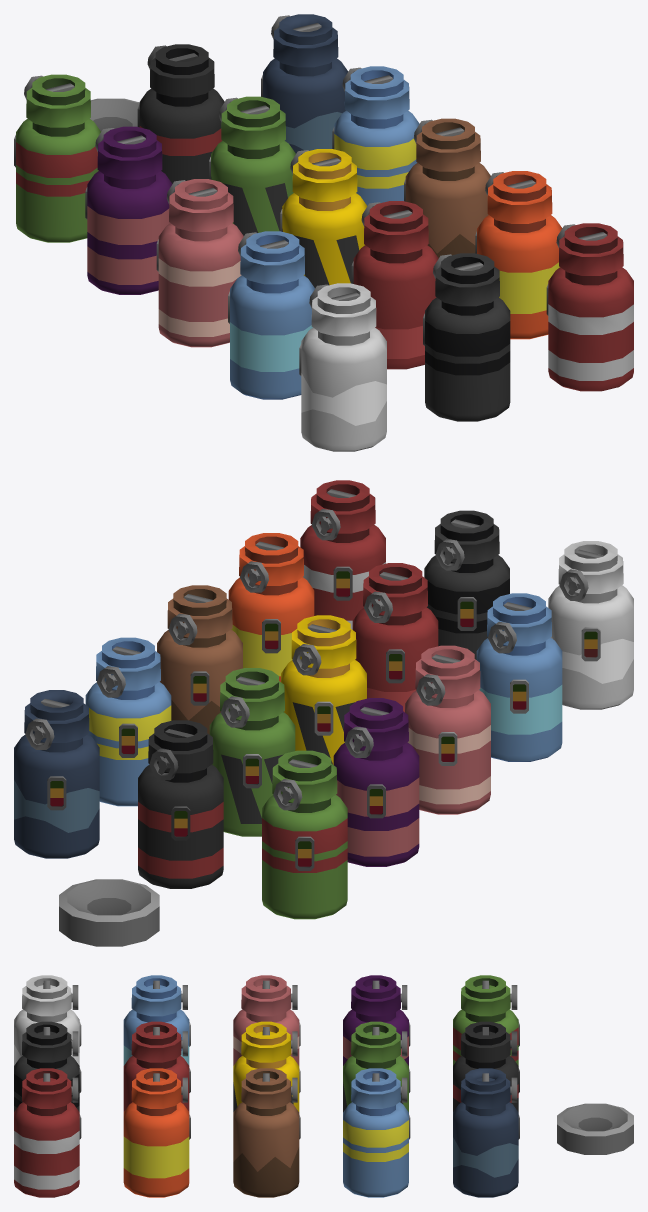
File: canisters.fbx
3 renders of one model, top to bottom at view 1: azimuth 30°, elevation 25°; view 2: azimuth 150°, elevation 25°; view 3: azimuth 270°, elevation 25°, orthographic. The views are drawn at different scales.
Parts seen in each view (by area): view 1: CanisterAir, CanisterCarbonDioxide, CanisterNitrousOxide, CanisterBZ, CanisterStimulum, CanisterOxygen, CanisterMiasma, CanisterPlasma, CanisterNitrogen, CanisterNitryl, CanisterTrituim, CanisterHyperNoblium (+4 smaller); view 2: CanisterMiasma, CanisterPluoxium, CanisterWaterVapor, CanisterStimulum, CanisterBZ, CanisterOxygen, CanisterAir, CanisterHyperNoblium, CanisterTrituim, CanisterCarbonDioxide, CanisterNitrousOxide, CanisterGeneric (+4 smaller); view 3: CanisterNitryl, CanisterPlasma, CanisterNitrousOxide, CanisterHyperNoblium, CanisterPluoxium, Port, CanisterGeneric, CanisterBZ, CanisterCarbonDioxide, CanisterNitrogen, CanisterTrituim, CanisterOxygen (+4 smaller).
Part boxes in pixels (left/top/right/bottom): CanisterAir: left=299, top=283, right=386, bottom=451; CanisterCarbonDioxide: left=423, top=253, right=510, bottom=421; CanisterNitrousOxide: left=546, top=223, right=633, bottom=391; CanisterBZ: left=156, top=179, right=243, bottom=347; CanisterStimulum: left=85, top=126, right=172, bottom=294; CanisterOxygen: left=228, top=231, right=314, bottom=399; CanisterMiasma: left=14, top=74, right=100, bottom=242; CanisterPlasma: left=475, top=171, right=562, bottom=339; CanisterNitrogen: left=351, top=201, right=438, bottom=369; CanisterNitryl: left=404, top=118, right=490, bottom=257; CanisterTrituim: left=209, top=96, right=295, bottom=235; CanisterHyperNoblium: left=332, top=66, right=419, bottom=205; CanisterMiasma: left=262, top=750, right=347, bottom=919; CanisterPluoxium: left=14, top=690, right=99, bottom=858; CanisterWaterVapor: left=138, top=720, right=223, bottom=888; CanisterStimulum: left=333, top=698, right=419, bottom=866; CanisterBZ: left=405, top=645, right=490, bottom=814; CanisterOxygen: left=476, top=593, right=562, bottom=761; CanisterAir: left=548, top=541, right=633, bottom=709; CanisterHyperNoblium: left=85, top=637, right=171, bottom=806; CanisterTrituim: left=209, top=668, right=295, bottom=836; CanisterCarbonDioxide: left=424, top=510, right=509, bottom=659; CanisterNitrousOxide: left=300, top=480, right=385, bottom=629; CanisterGeneric: left=281, top=615, right=366, bottom=764; CanisterNitryl: left=233, top=1068, right=300, bottom=1197; CanisterPlasma: left=123, top=1068, right=190, bottom=1197; CanisterNitrousOxide: left=14, top=1068, right=81, bottom=1197; CanisterHyperNoblium: left=343, top=1068, right=410, bottom=1197; CanisterPluoxium: left=453, top=1068, right=519, bottom=1197; Port: left=557, top=1103, right=633, bottom=1154; CanisterGeneric: left=233, top=1021, right=300, bottom=1111; CanisterBZ: left=233, top=975, right=300, bottom=1065; CanisterCarbonDioxide: left=14, top=1021, right=81, bottom=1111; CanisterNitrogen: left=123, top=1021, right=190, bottom=1111; CanisterTrituim: left=343, top=1021, right=410, bottom=1112; CanisterOxygen: left=123, top=975, right=190, bottom=1065.
Bounding box in the file's own units: 2.6 × 1.09 × 5.65.
